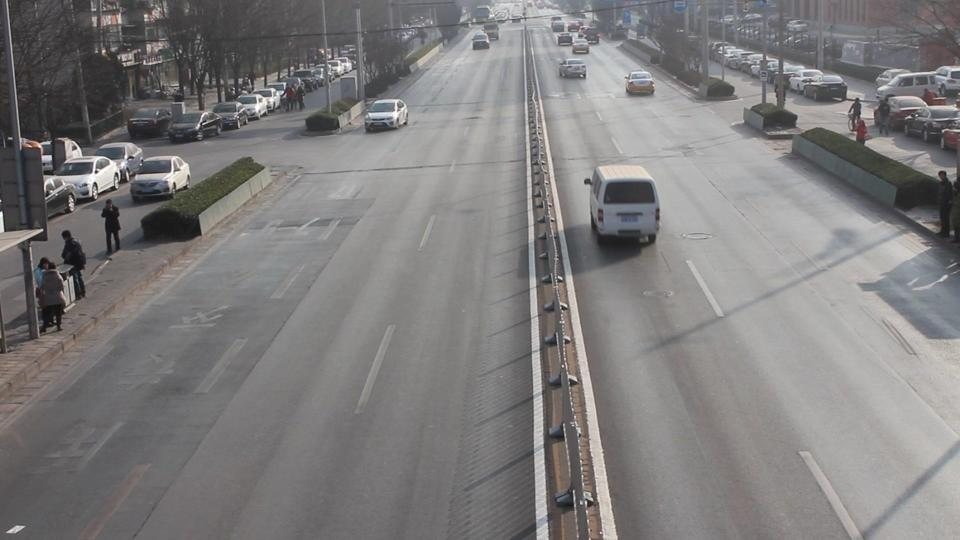Car: (367, 96, 410, 128), (627, 68, 659, 98), (557, 56, 589, 79)
Minivan: (585, 165, 664, 249)
